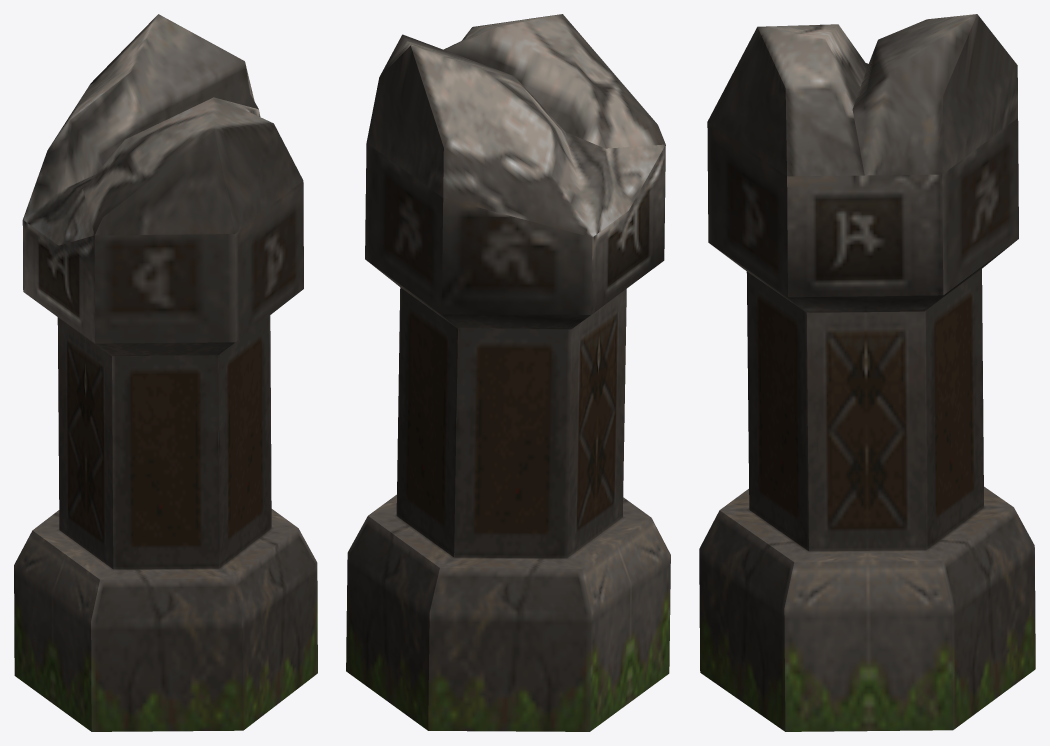
Rendered from yj_zhuzi_1.FBX.
3 renders of one model, left to right at view 1: azimuth 30°, elevation 25°; view 2: azimuth 150°, elevation 25°; view 3: azimuth 270°, elevation 25°, orthographic. The views are drawn at different scales.
Visible parts, largest first — view 1: yj_zhuzi_1; view 2: yj_zhuzi_1; view 3: yj_zhuzi_1.
Part boxes in pixels (x1,y1,x2,y2): yj_zhuzi_1: [14, 14, 317, 731]; yj_zhuzi_1: [346, 14, 670, 731]; yj_zhuzi_1: [699, 14, 1035, 731].
Bounding box in the file's own units: 309 × 792 × 354.
